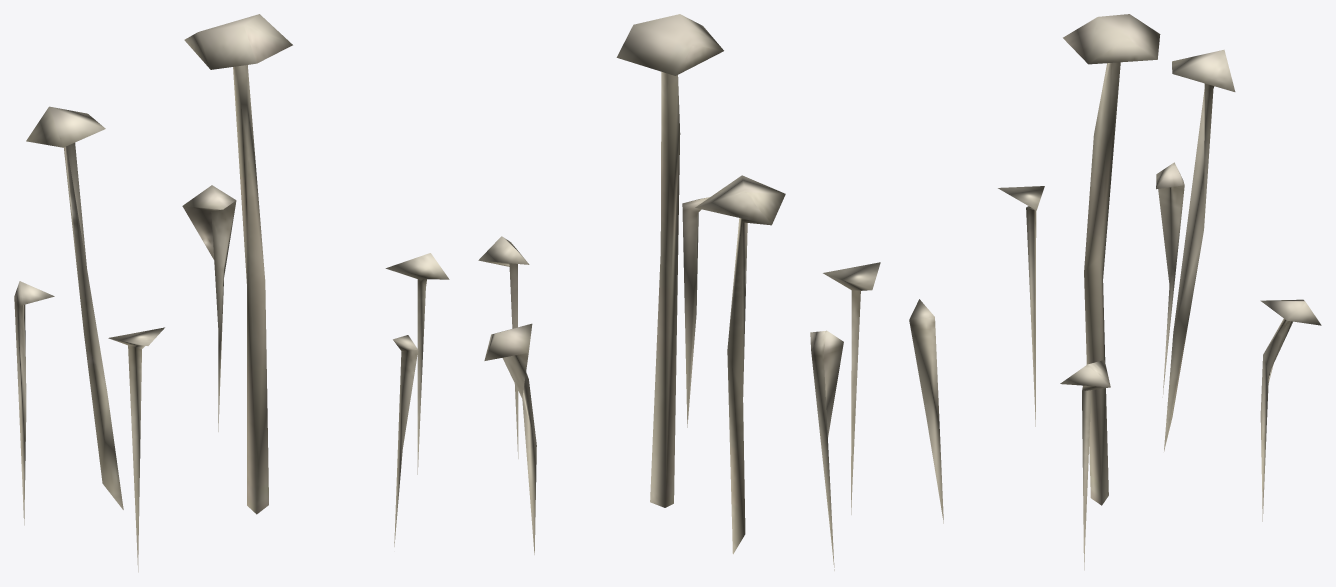
The model's file is mushgrass_c_far.glb.
The picture shows the model from 3 angles, left to right: view 1: azimuth 30°, elevation 25°; view 2: azimuth 150°, elevation 25°; view 3: azimuth 270°, elevation 25°; orthographic projection. The views are drawn at different scales.
Visible parts, largest first — view 1: mushgrass; view 2: mushgrass; view 3: mushgrass.
Part boxes in pixels (x1,y1,x2,y2): mushgrass: [14, 14, 449, 572]; mushgrass: [478, 14, 880, 570]; mushgrass: [909, 14, 1321, 570].
Size of the model in its own units: 0.1395 by 0.17 by 0.1328.
Materials: 1 (1 with a texture image).
